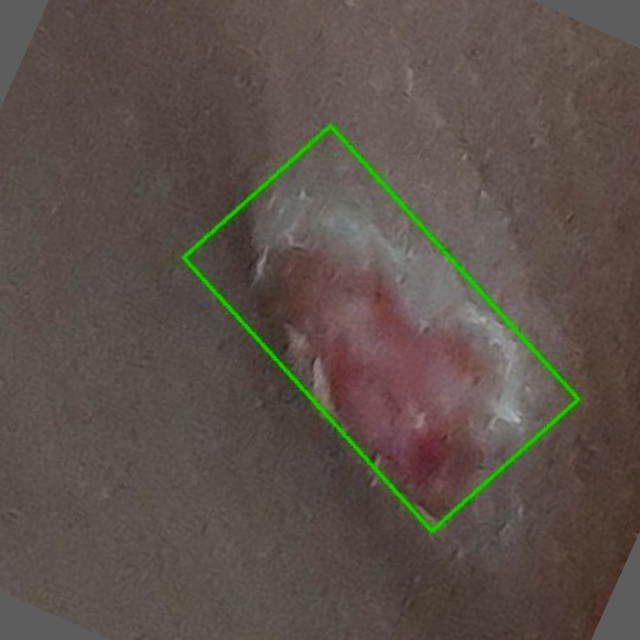Eczema: (184, 126, 578, 532)
